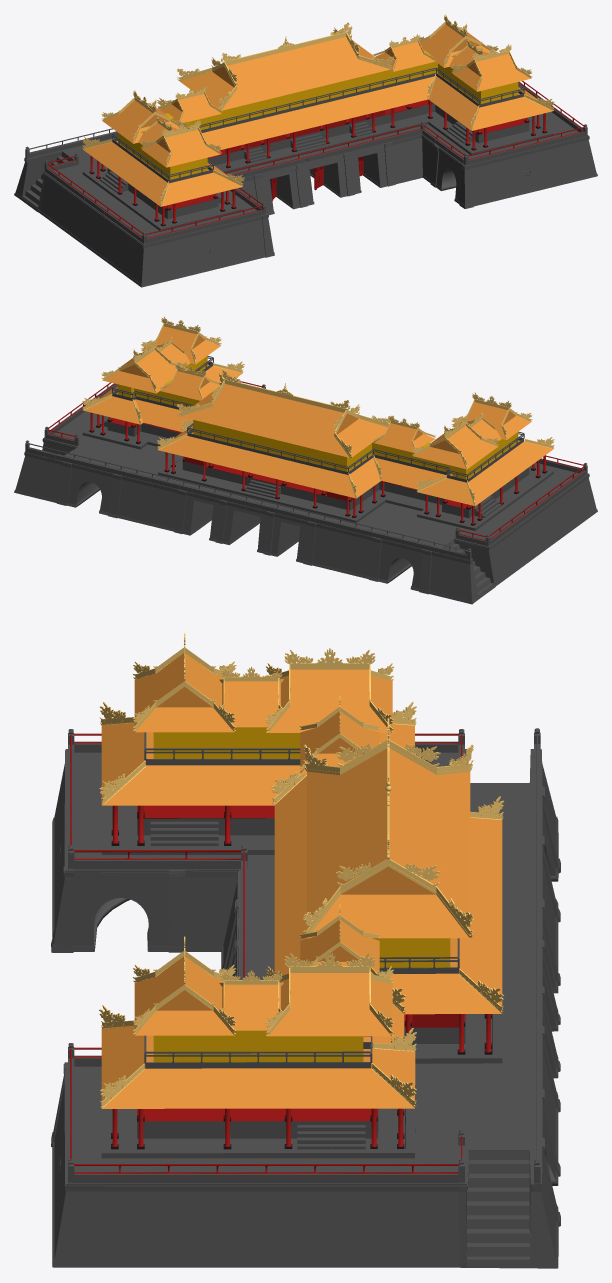
The model's file is ngo-mon.glb.
The picture shows the model from 3 angles, top to bottom: view 1: azimuth 30°, elevation 25°; view 2: azimuth 150°, elevation 25°; view 3: azimuth 270°, elevation 25°; orthographic projection. The views are drawn at different scales.
Visible parts, largest first — view 1: Cube, Cube.031, Cube.042, Cube.086, Cube.002, Cube.001, Cube.115, Cube.032, Cube.012, Cube.124, Cube.241, Cube.264 (+11 smaller); view 2: Cube, Cube.031, Cube.042, Cube.002, Cube.086, Cube.032, Cube.264, Cube.252, Cube.116, Cube.034, Cube.012, Cube.124 (+11 smaller); view 3: Cube, Cube.031, Cube.042, Cube.002, Cube.086, Cube.252, Cube.001, Cube.264, Cube.012, Cube.124, Cube.241, Cube.387 (+17 smaller).
Boxes of the visible parts, box(x1,y1,x2,y2) form: Cube: box(14, 112, 597, 287); Cube.031: box(83, 74, 552, 206); Cube.042: box(212, 37, 390, 110); Cube.086: box(118, 50, 518, 179); Cube.002: box(92, 103, 543, 225); Cube.001: box(42, 134, 589, 248); Cube.115: box(47, 81, 584, 238); Cube.032: box(112, 67, 524, 180); Cube.012: box(164, 99, 528, 210); Cube.124: box(142, 130, 220, 167); Cube.241: box(452, 54, 530, 91); Cube.264: box(102, 100, 179, 143); Cube: box(14, 411, 597, 604); Cube.031: box(83, 364, 553, 506); Cube.042: box(180, 384, 358, 457); Cube.002: box(93, 421, 544, 524); Cube.086: box(118, 356, 518, 479); Cube.032: box(112, 356, 524, 480); Cube.264: box(414, 426, 497, 468); Cube.252: box(102, 350, 186, 393); Cube.116: box(28, 443, 467, 554); Cube.034: box(112, 362, 523, 482); Cube.012: box(110, 418, 471, 508); Cube.124: box(453, 402, 530, 439); Cube: box(51, 749, 560, 1268); Cube.031: box(101, 723, 502, 1108); Cube.042: box(307, 748, 470, 929); Cube.002: box(111, 805, 492, 1149); Cube.086: box(153, 727, 450, 1062); Cube.252: box(267, 973, 392, 1036); Cube.001: box(63, 749, 469, 1191); Cube.264: box(267, 669, 392, 732); Cube.012: box(137, 805, 465, 1121); Cube.124: box(134, 653, 234, 732); Cube.241: box(134, 956, 234, 1035); Cube.387: box(307, 894, 469, 938).
Bounding box in the file's own units: 4.66 × 1.31 × 2.24.
